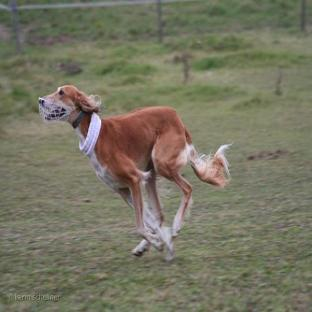Animal: (38, 85, 231, 259)
